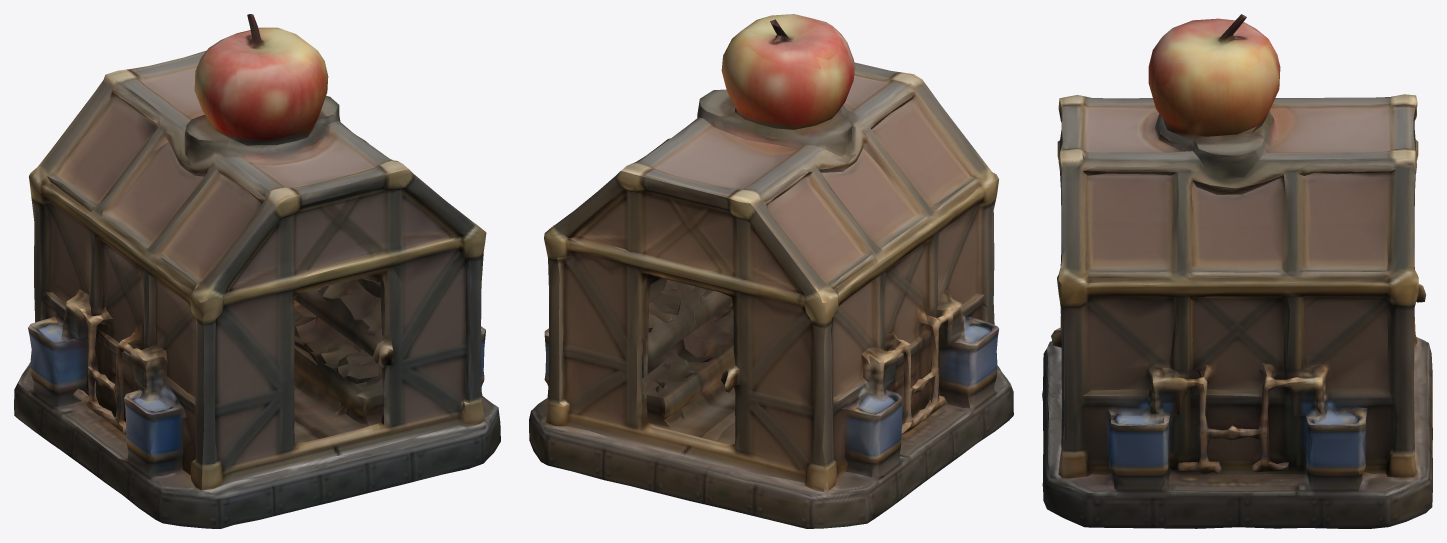
File: Brasswake hydroponics module.glb
The picture shows the model from 3 angles, left to right: view 1: azimuth 30°, elevation 25°; view 2: azimuth 150°, elevation 25°; view 3: azimuth 270°, elevation 25°; orthographic projection. The views are drawn at different scales.
Visible parts, largest first — view 1: Greenhouse; view 2: Greenhouse; view 3: Greenhouse.
Boxes of the visible parts, left/top/right/bottom form: Greenhouse: left=14, top=14, right=500, bottom=528; Greenhouse: left=529, top=14, right=1013, bottom=528; Greenhouse: left=1042, top=14, right=1432, bottom=528.
Bounding box in the file's own units: 0.7822 × 0.9 × 0.748.
1 material, 1 textured.
